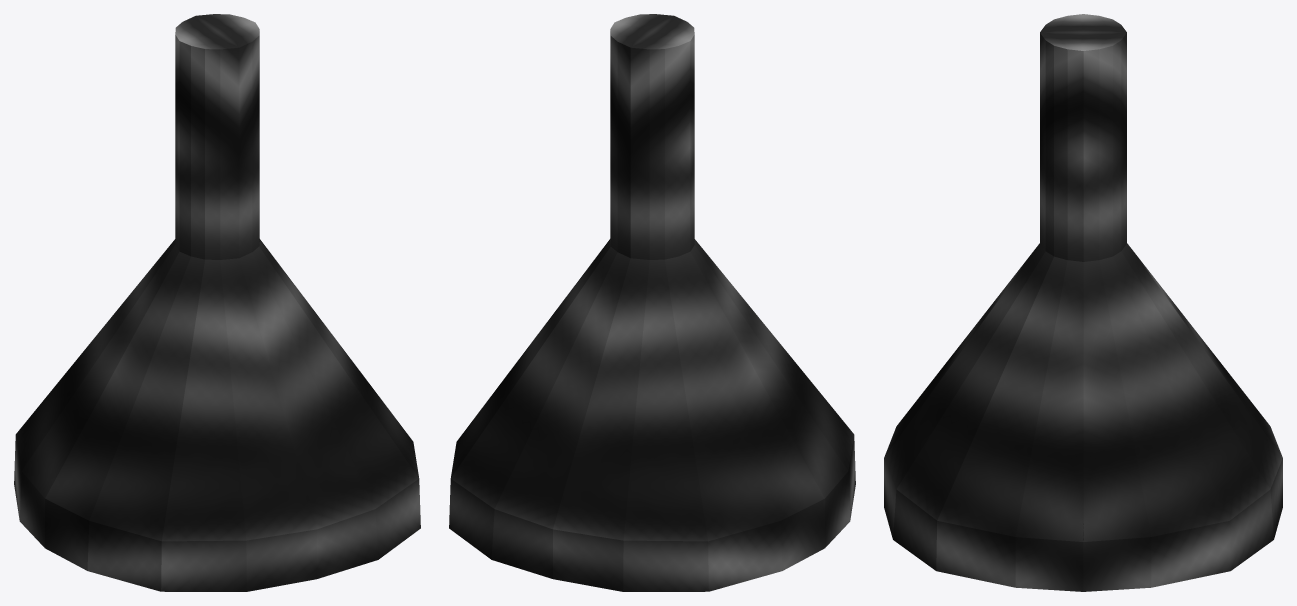
Rendered from Filter (2).fbx.
3 renders of one model, left to right at view 1: azimuth 30°, elevation 25°; view 2: azimuth 150°, elevation 25°; view 3: azimuth 270°, elevation 25°, orthographic.
Parts seen in each view (by area): view 1: Cube; view 2: Cube; view 3: Cube.
Boxes of the visible parts, x1=… form: Cube: x1=14, y1=14, x2=420, y2=591; Cube: x1=449, y1=14, x2=855, y2=591; Cube: x1=884, y1=14, x2=1282, y2=591.
Bounding box in the file's own units: 200 × 263 × 200.
Materials: 1 (1 with a texture image).
